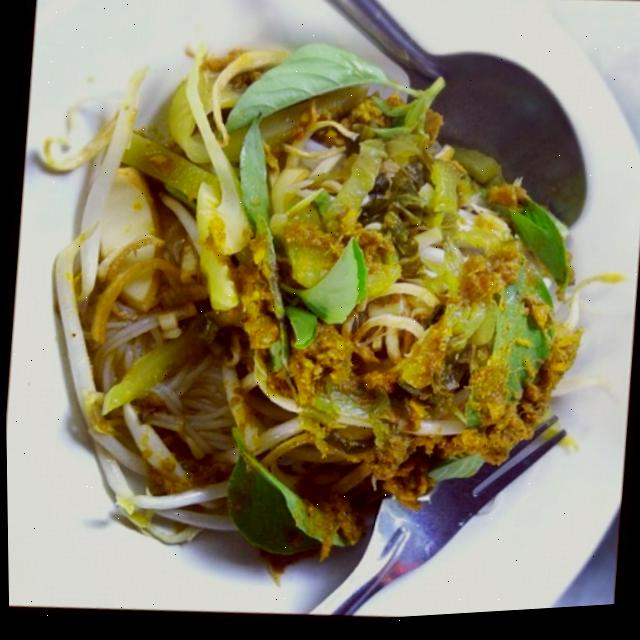面条主食: (0, 0, 640, 633)
